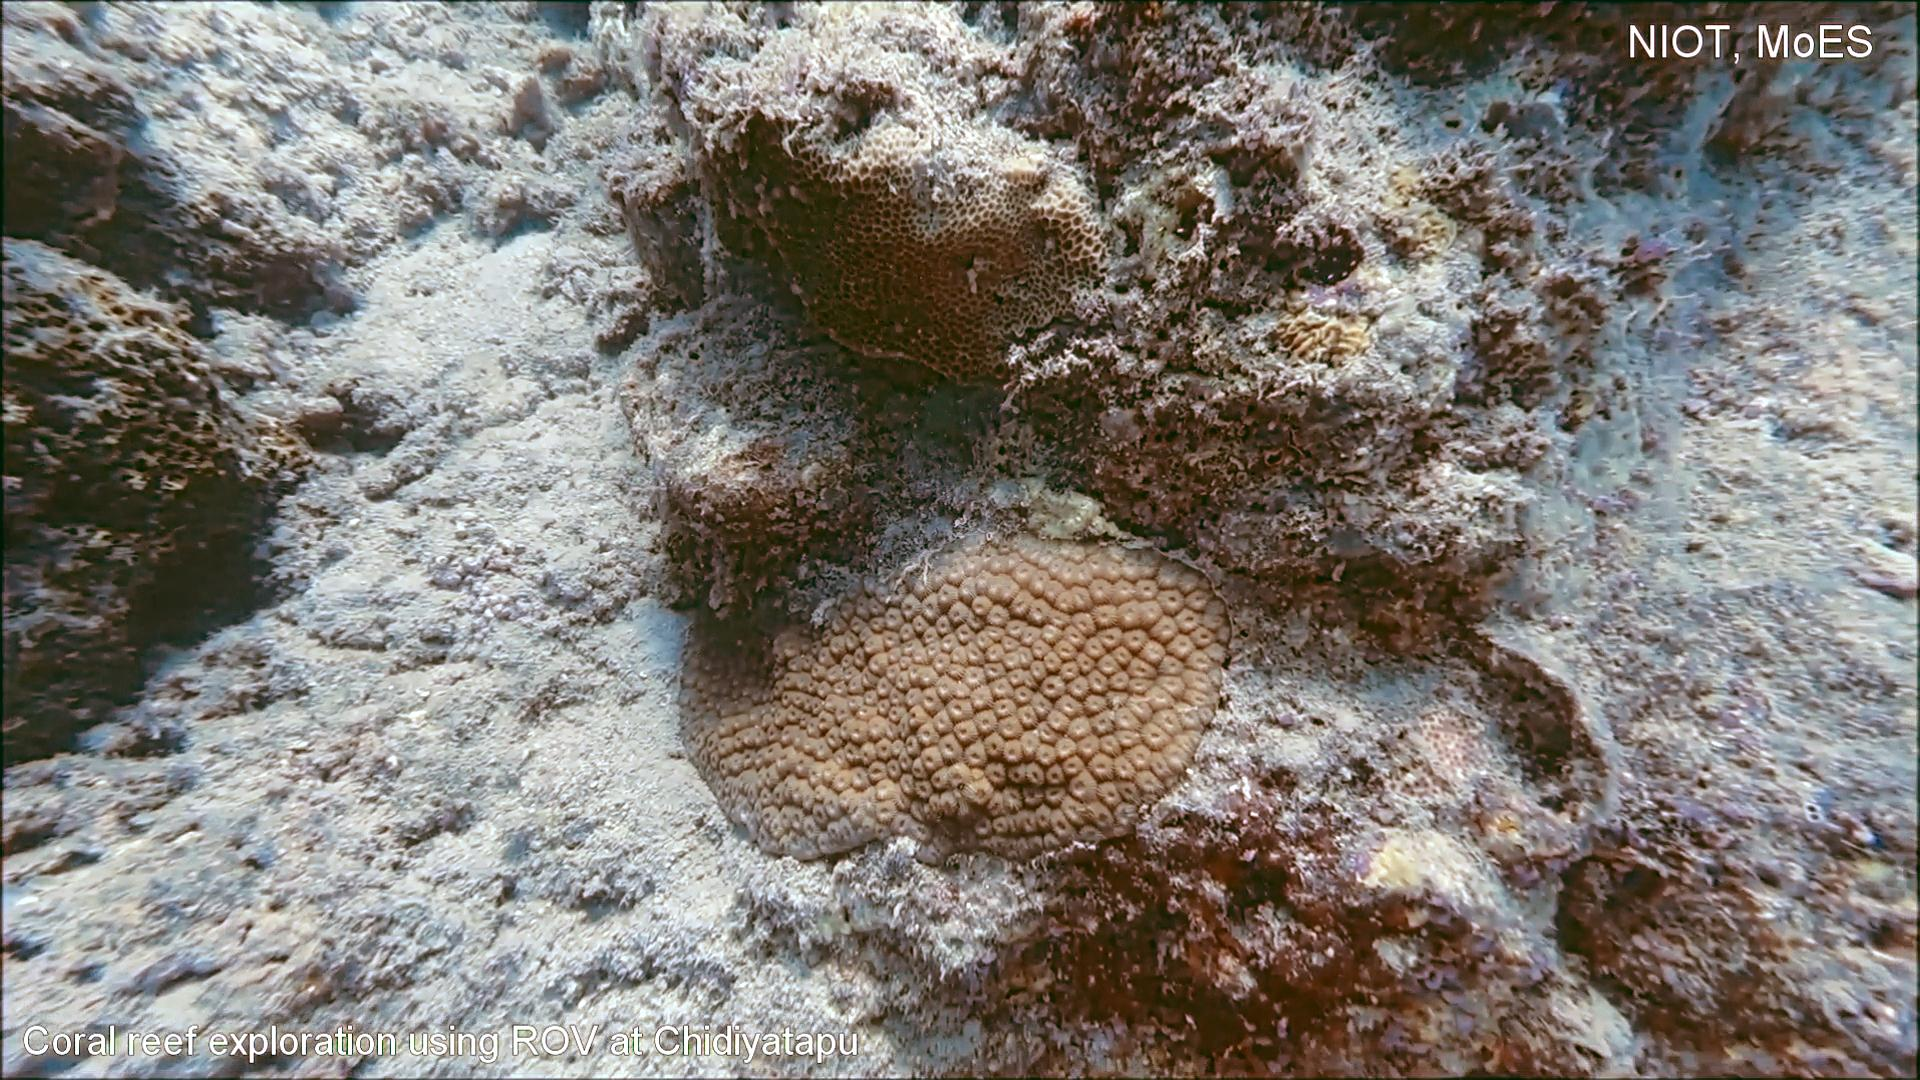Montastraea: (670, 525, 1240, 880)
